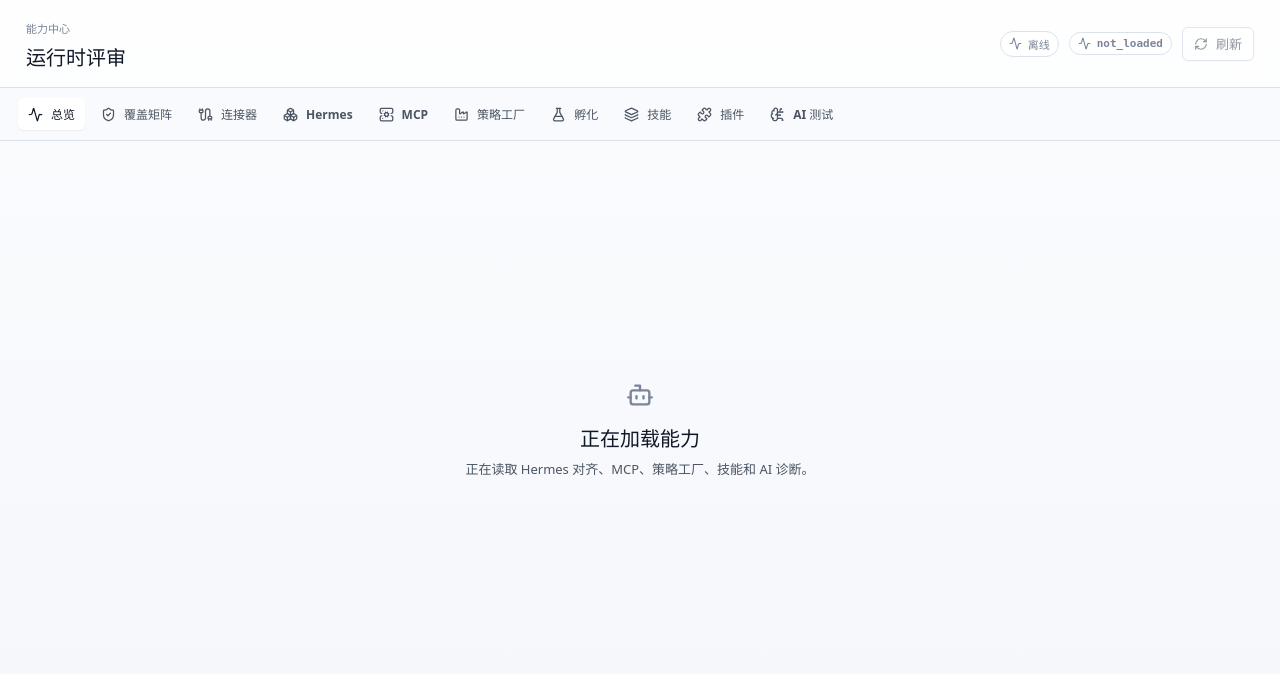
it: CapabilitiesWorkspace › renders the native plugins tab without loading external plugin JavaScript
Expected: the heading "运行时评审" is shown, [26,42,126,71]
Click the button "插件": (721, 114) [687,98,754,130]
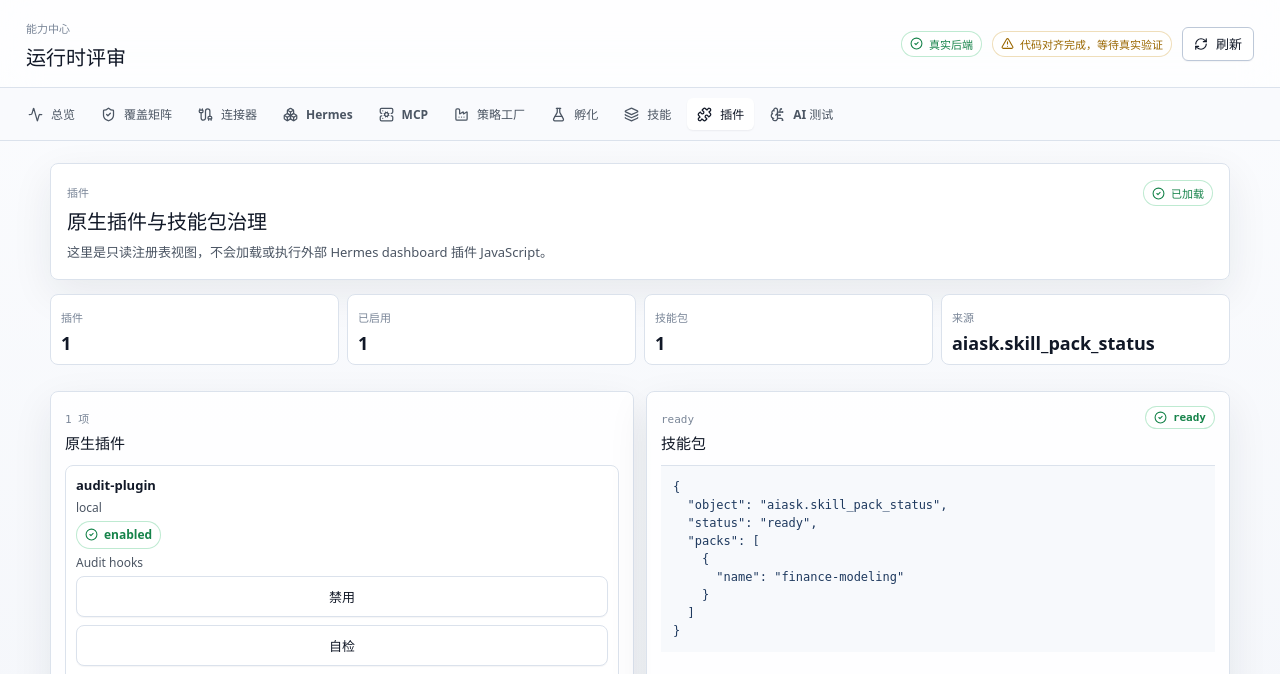
Result: the heading "原生插件与技能包治理" is shown at [67,208,267,235]
Result: the text "audit-plugin" is shown at [76,476,156,494]
Result: the text "这里是只读注册表视图，不会加载或执行外部 Hermes dashboard 插件 JavaScript。" is shown at [67,243,553,262]
Click the button "自检": (342, 645) [76,625,608,666]
(page scrolled)
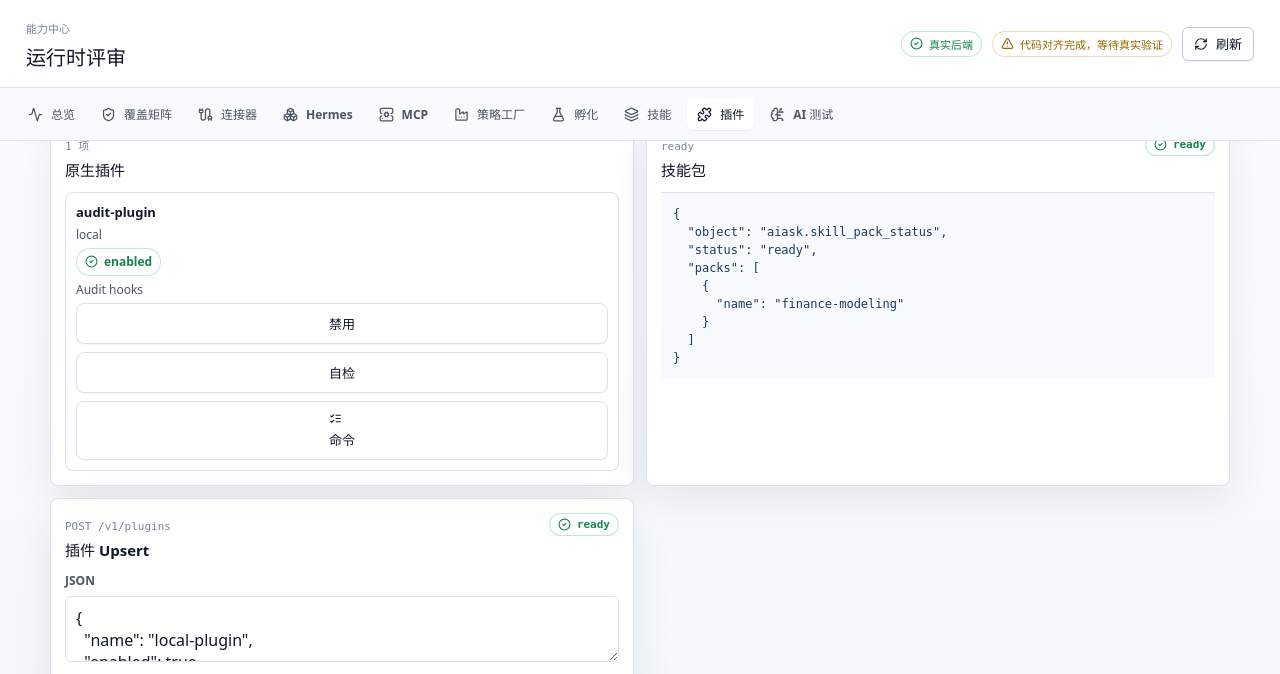
Click the button "命令": (342, 430) [76,401,608,460]
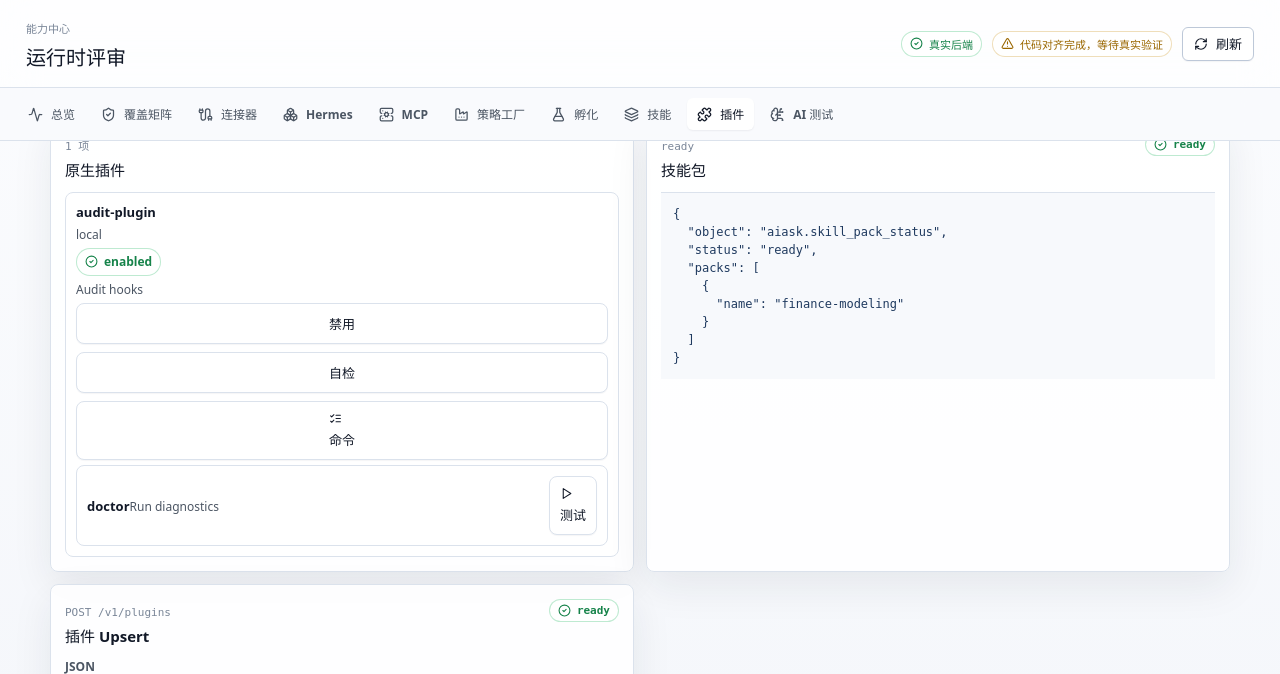
Result: the text "doctor" is shown at [87,497,130,515]
Click the button "测试": (573, 505) [549,476,597,535]
(page scrolled)
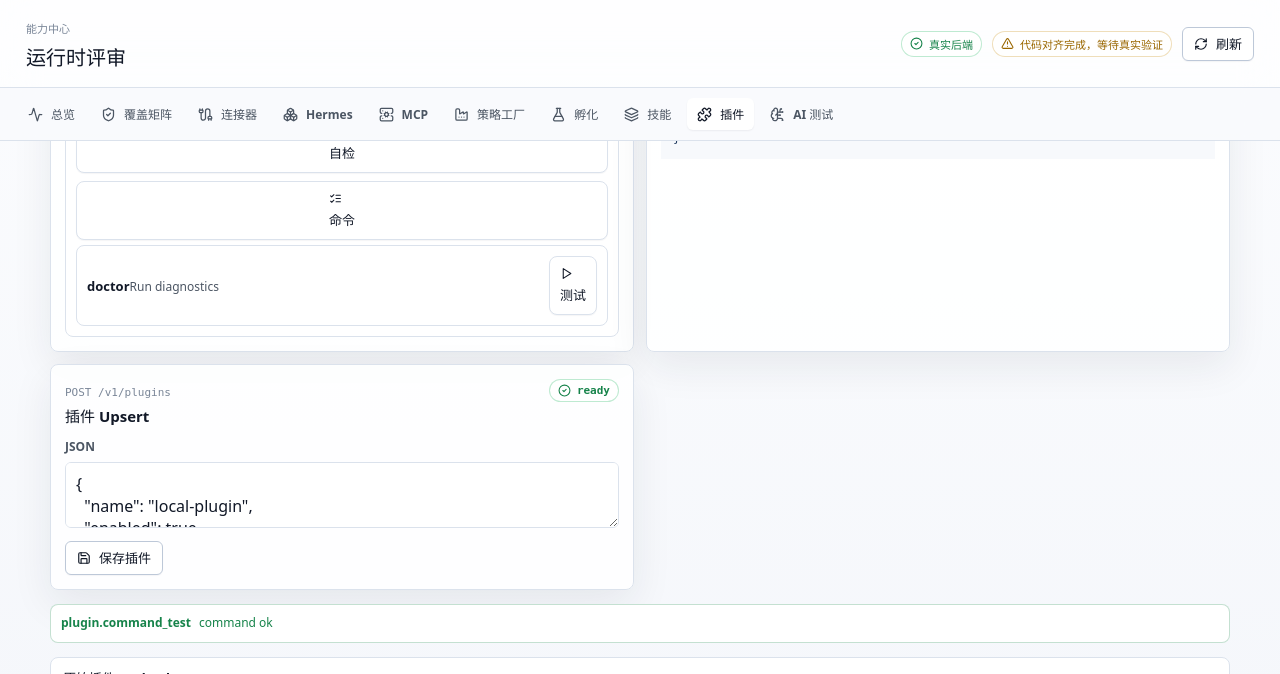
Result: the text "command ok" is shown at [199,615,273,632]
Click the button "保存插件": (114, 558) [65,541,163,575]
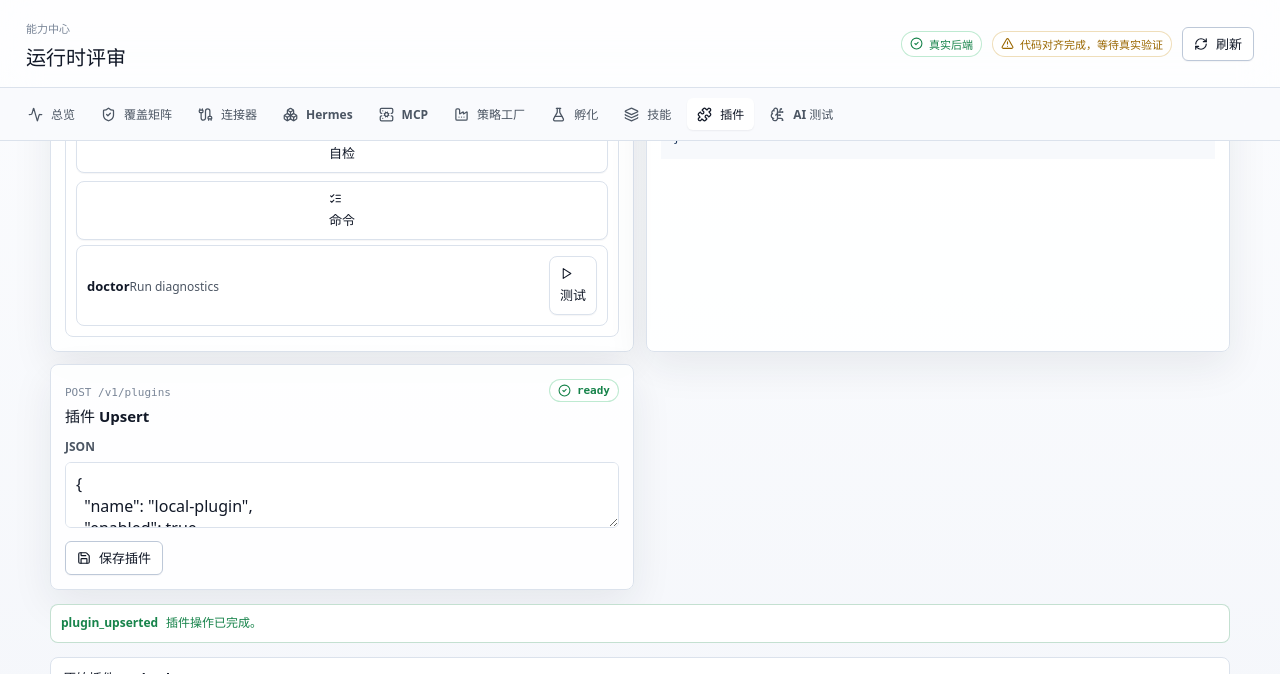
Result: the text "plugin_upserted" is shown at [61,615,158,632]
